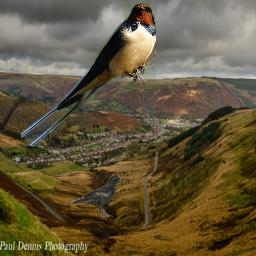Crow: (69, 175, 123, 217)
Swallow: (21, 3, 156, 146)
